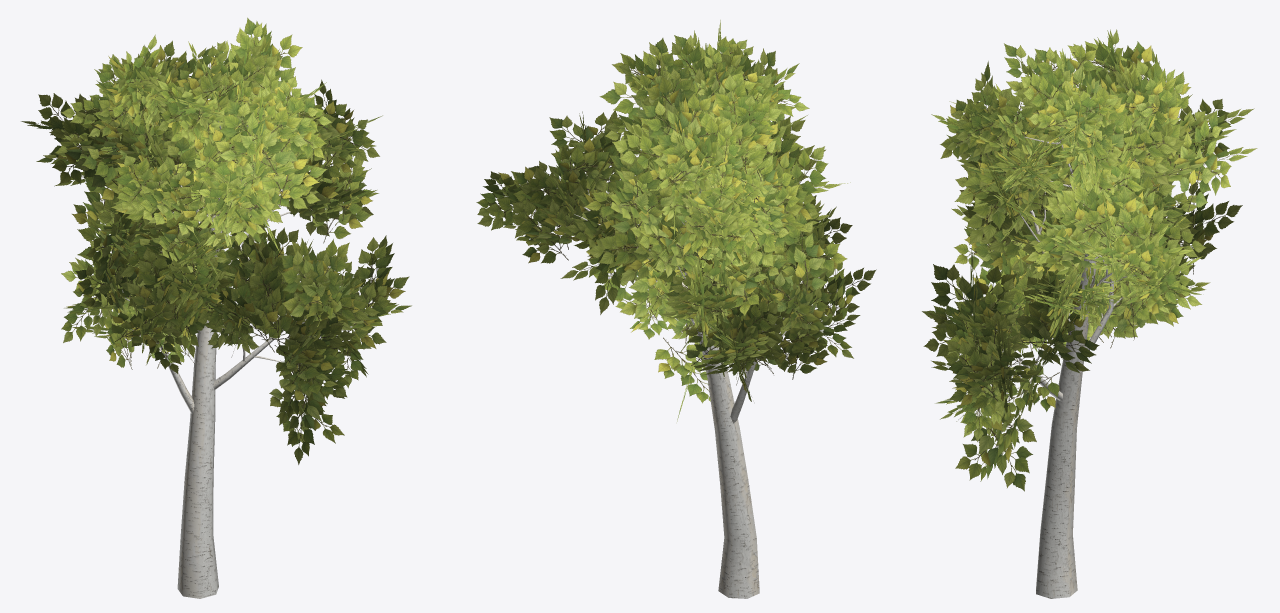
Rendered from nature-white-silver-birch_v2.glb.
The picture shows the model from 3 angles, left to right: view 1: azimuth 30°, elevation 25°; view 2: azimuth 150°, elevation 25°; view 3: azimuth 270°, elevation 25°; orthographic projection. The views are drawn at different scales.
Parts seen in each view (by area): view 1: nature-white-silver-birch; view 2: nature-white-silver-birch; view 3: nature-white-silver-birch.
Boxes of the visible parts, x1,y1,x2,y2 form: nature-white-silver-birch: (21, 17, 411, 598); nature-white-silver-birch: (476, 20, 876, 598); nature-white-silver-birch: (922, 29, 1257, 598).
Bounding box in the file's own units: 5.24 × 7.88 × 4.47.
2 materials, 2 textured.
